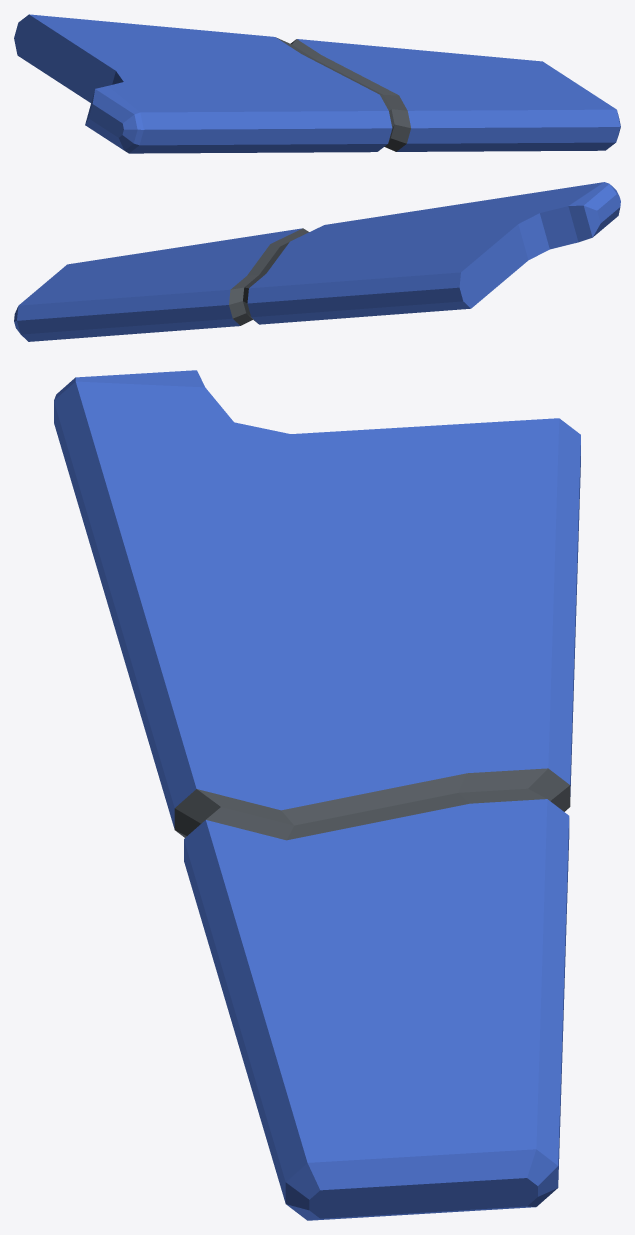
The model's file is Fighter_07_Auxillary_Wing_Left_Blue.fbx.
3 renders of one model, top to bottom at view 1: azimuth 30°, elevation 25°; view 2: azimuth 150°, elevation 25°; view 3: azimuth 270°, elevation 25°, orthographic. The views are drawn at different scales.
Visible parts, largest first — view 1: Fighter_07_Auxillary_Wing_Left_Blue; view 2: Fighter_07_Auxillary_Wing_Left_Blue; view 3: Fighter_07_Auxillary_Wing_Left_Blue.
Part boxes in pixels (x1,y1,x2,y2): Fighter_07_Auxillary_Wing_Left_Blue: (14,14,620,153); Fighter_07_Auxillary_Wing_Left_Blue: (14,182,620,341); Fighter_07_Auxillary_Wing_Left_Blue: (54,370,580,1220).
Bounding box in the file's own units: 412 × 149 × 186.
1 material, 1 textured.
